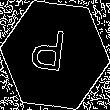P_S: (35, 28, 75, 82)
